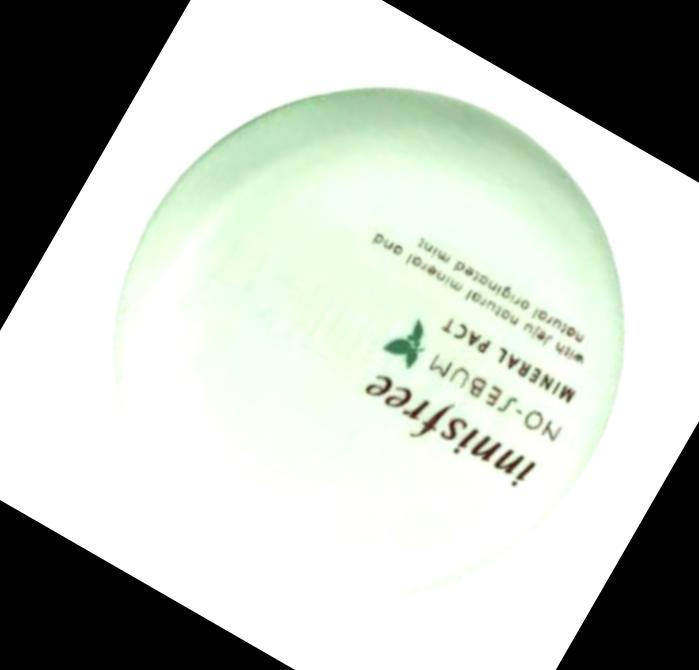cosmetic: (15, 1, 699, 670)
